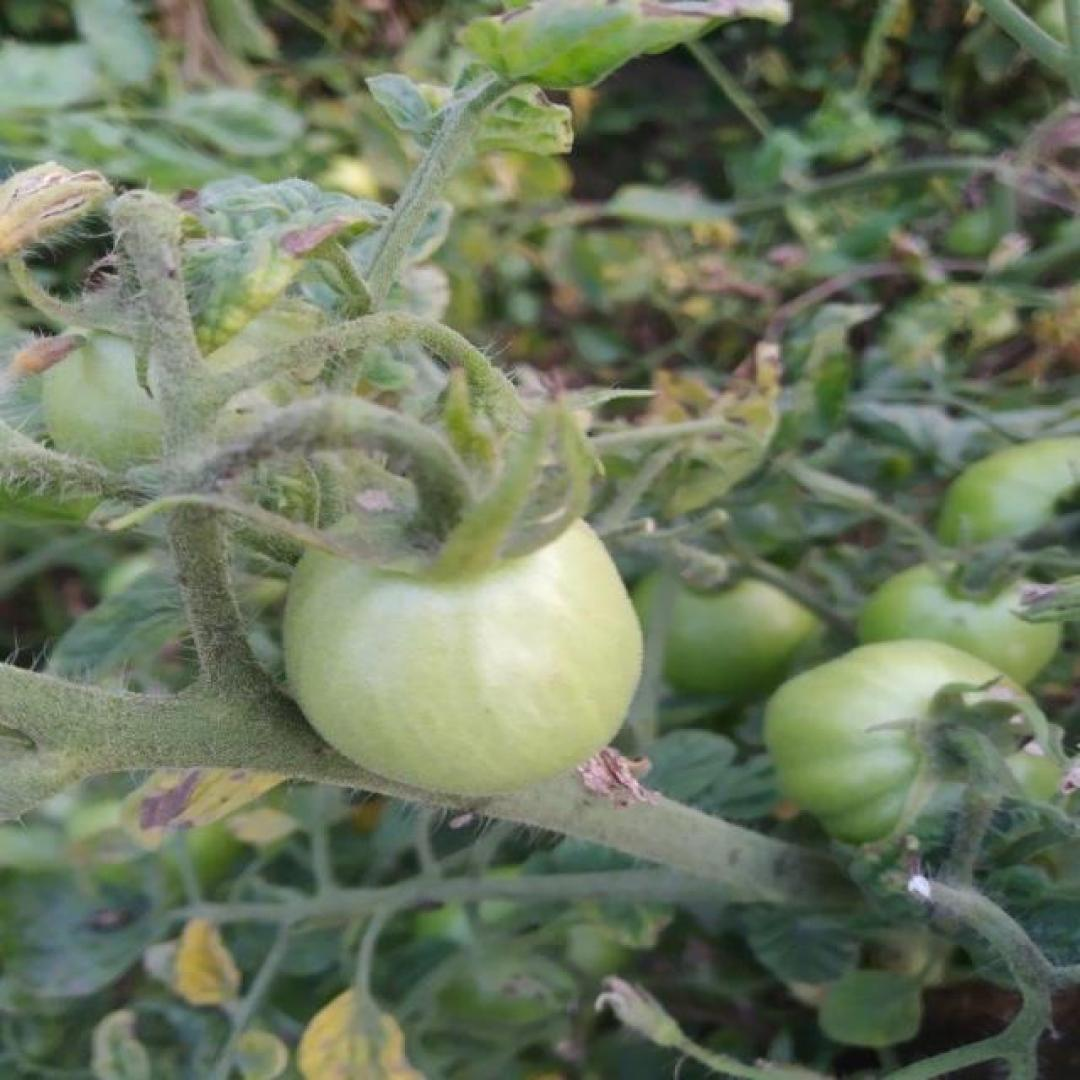mentah: (278, 468, 643, 798), (763, 640, 1065, 868)
